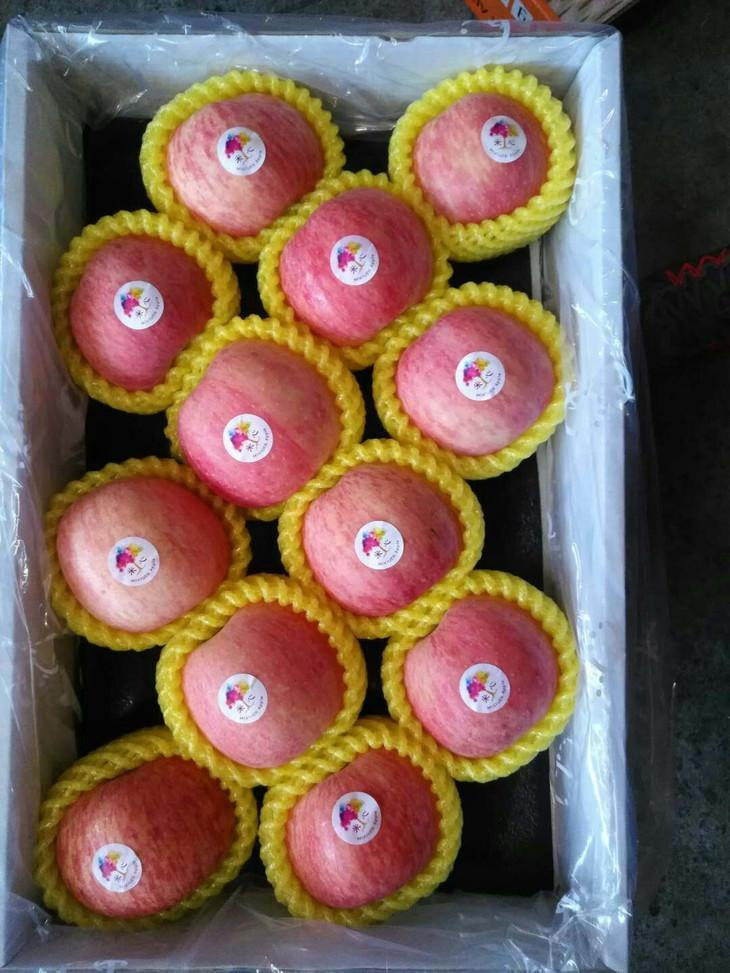apple: (173, 340, 339, 501), (63, 469, 229, 630), (179, 605, 345, 766), (277, 188, 443, 349), (398, 594, 564, 755), (397, 298, 563, 459), (52, 228, 218, 389), (60, 751, 226, 912), (157, 79, 323, 240), (294, 455, 460, 616), (286, 750, 441, 916), (411, 90, 557, 225)
